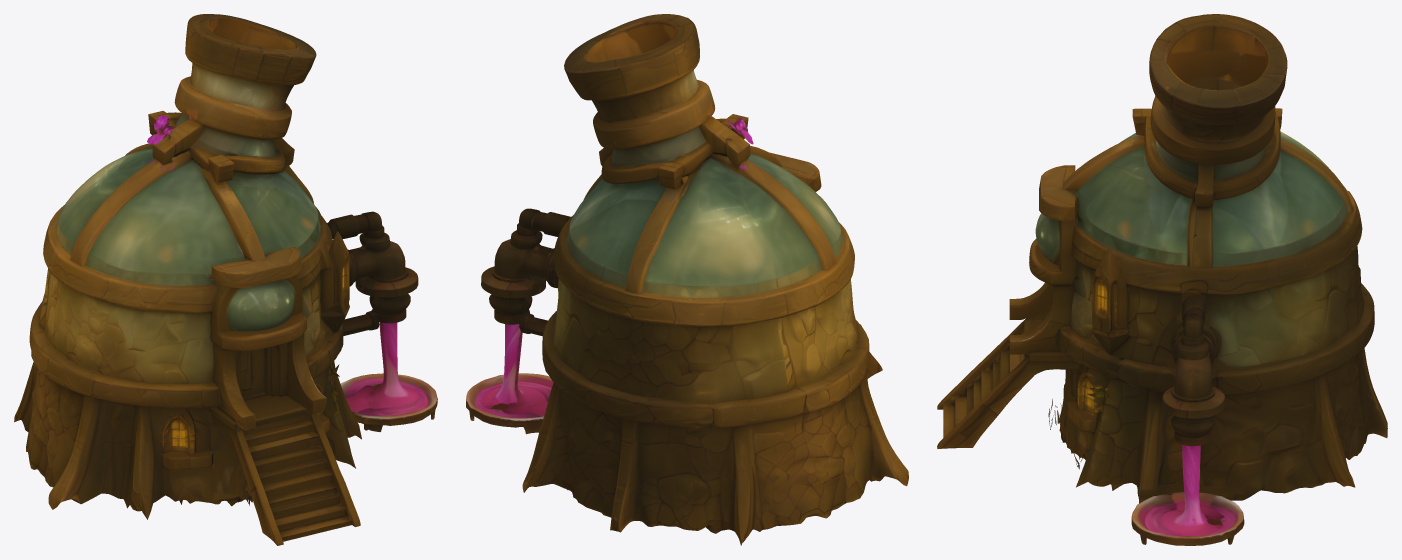
File: alchemist_building_1.glb
The picture shows the model from 3 angles, left to right: view 1: azimuth 30°, elevation 25°; view 2: azimuth 150°, elevation 25°; view 3: azimuth 270°, elevation 25°; orthographic projection. The views are drawn at different scales.
Visible parts, largest first — view 1: geometry_0; view 2: geometry_0; view 3: geometry_0.
Part boxes in pixels (x1,y1,x2,y2): geometry_0: [14, 14, 437, 545]; geometry_0: [466, 14, 908, 545]; geometry_0: [937, 14, 1387, 545].
Bounding box in the file's own units: 1.9 × 1.89 × 1.79.
Materials: 1 (1 with a texture image).
